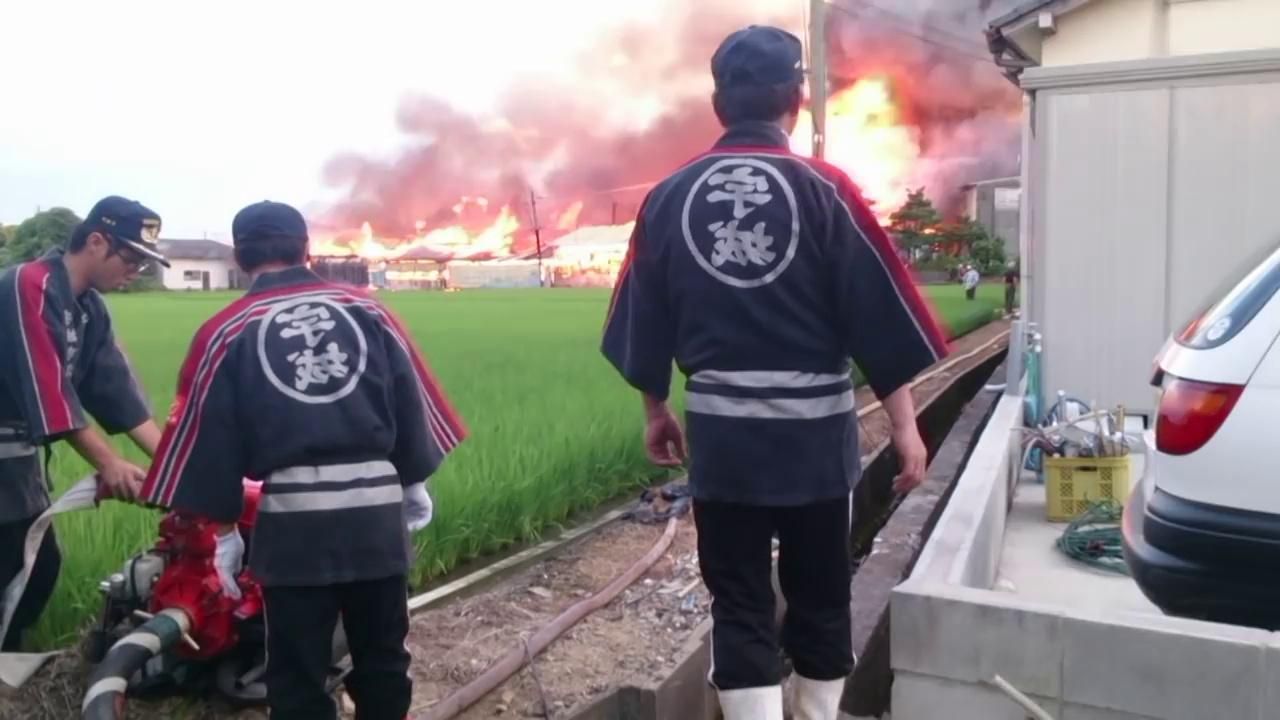Fire: (795, 81, 918, 222), (348, 199, 518, 261), (536, 211, 638, 275)
